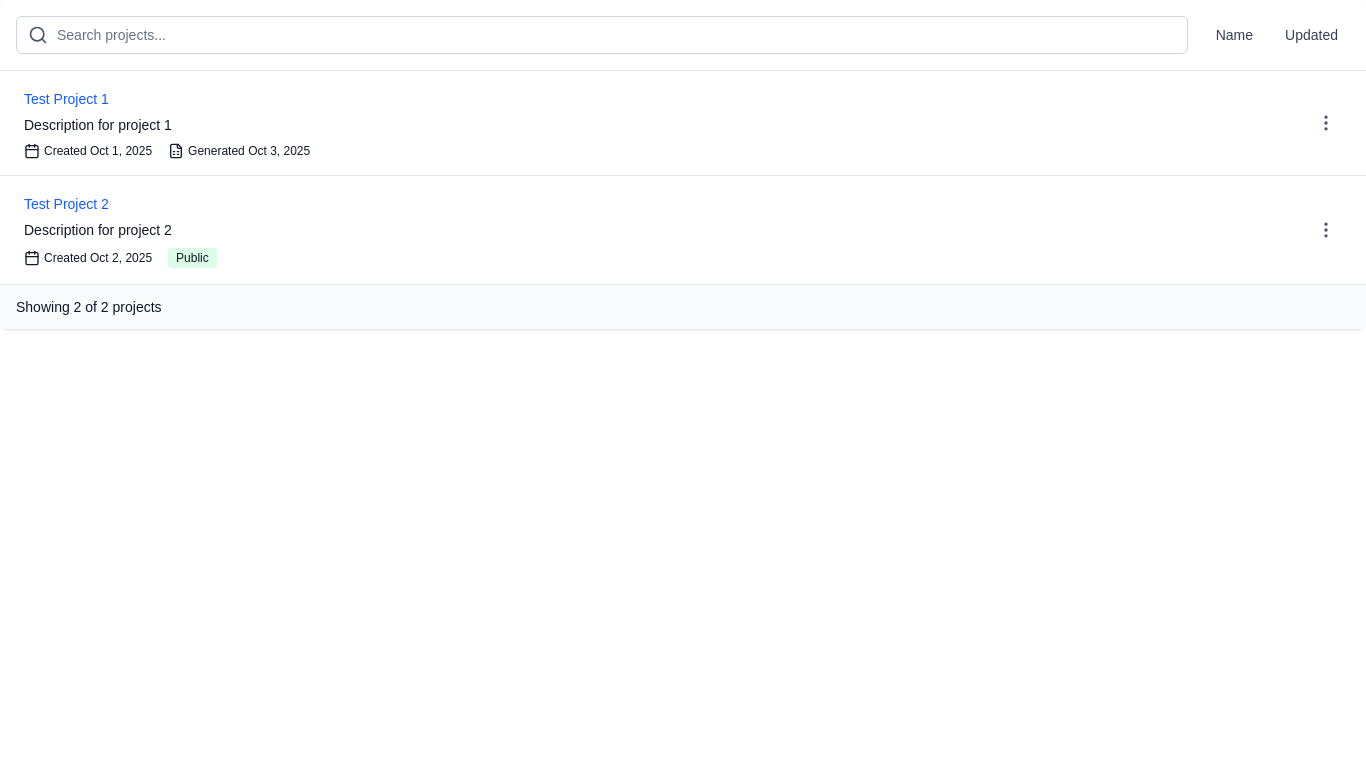
Test: ProjectList Component › opens and closes action menu
// Open menu
Click the button with class "justify-center" in the row of "Description for project 1" at (1326, 122), box [1310,106,1342,138]
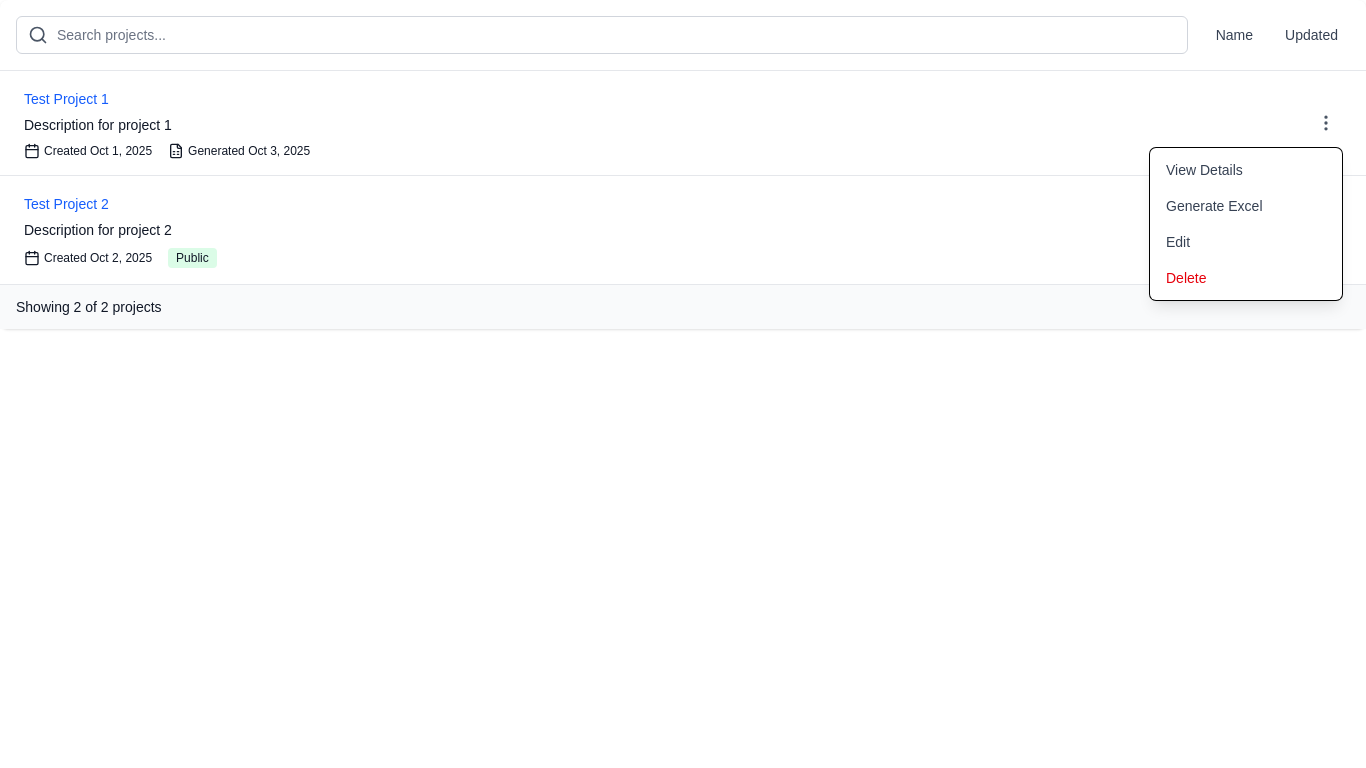
Now the link "View Details" is shown, box [1166,162,1243,178]
Now the button "Generate Excel" is shown, box [1150,188,1342,224]
Now the link "Edit" is shown, box [1166,234,1190,250]
Click the element with class "inset-0" at (683, 384), box [0,0,1365,767]
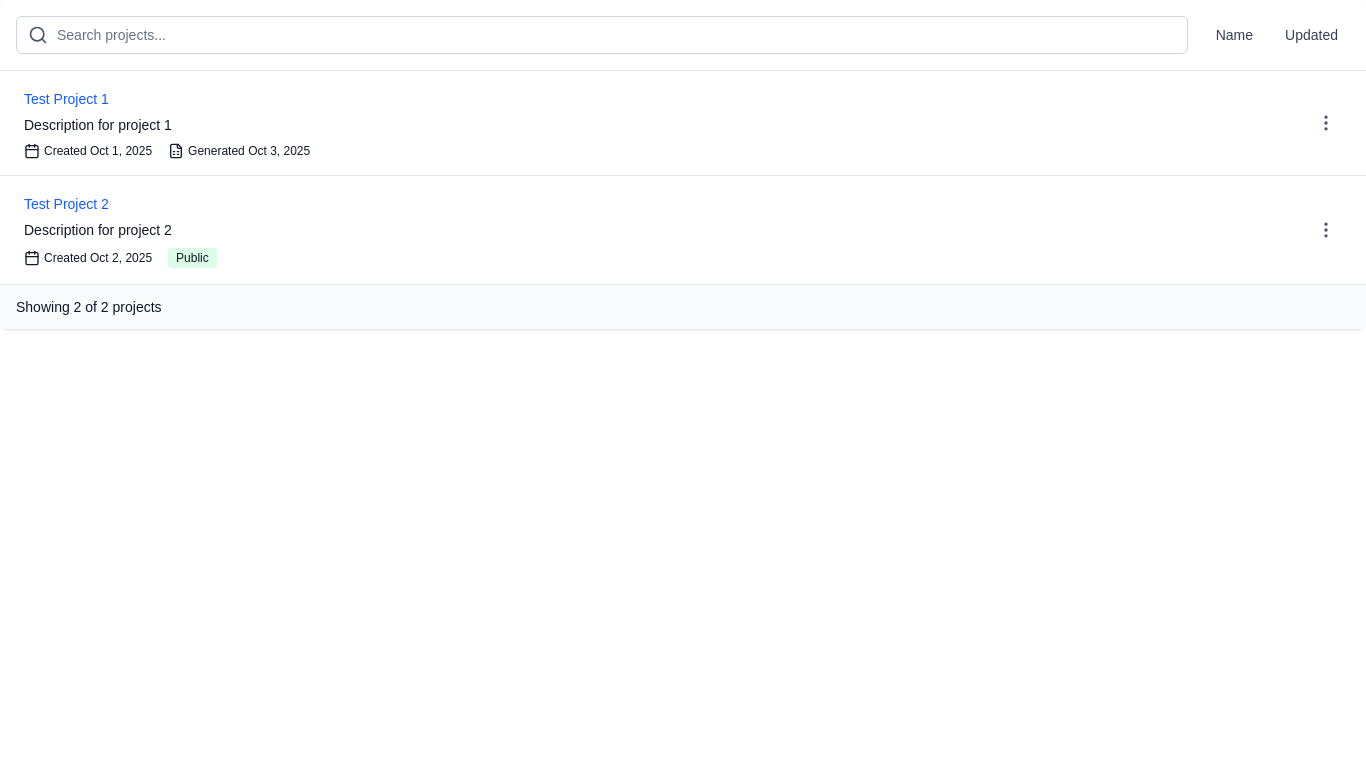
Now the link "View Details" is gone
